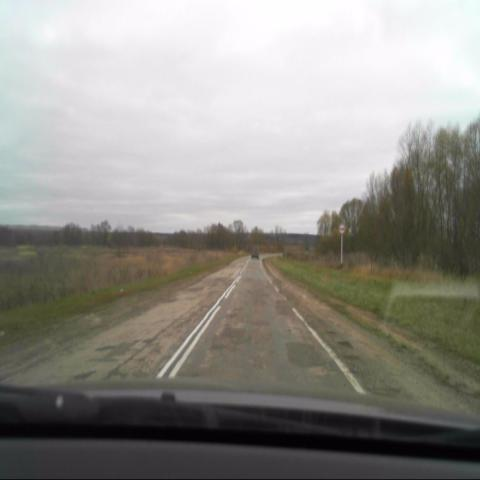3_20: (338, 221, 346, 235)
